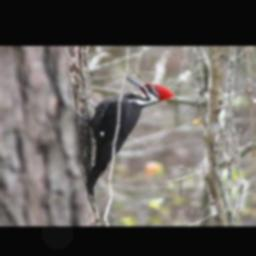Woodpecker: (72, 77, 178, 200)
